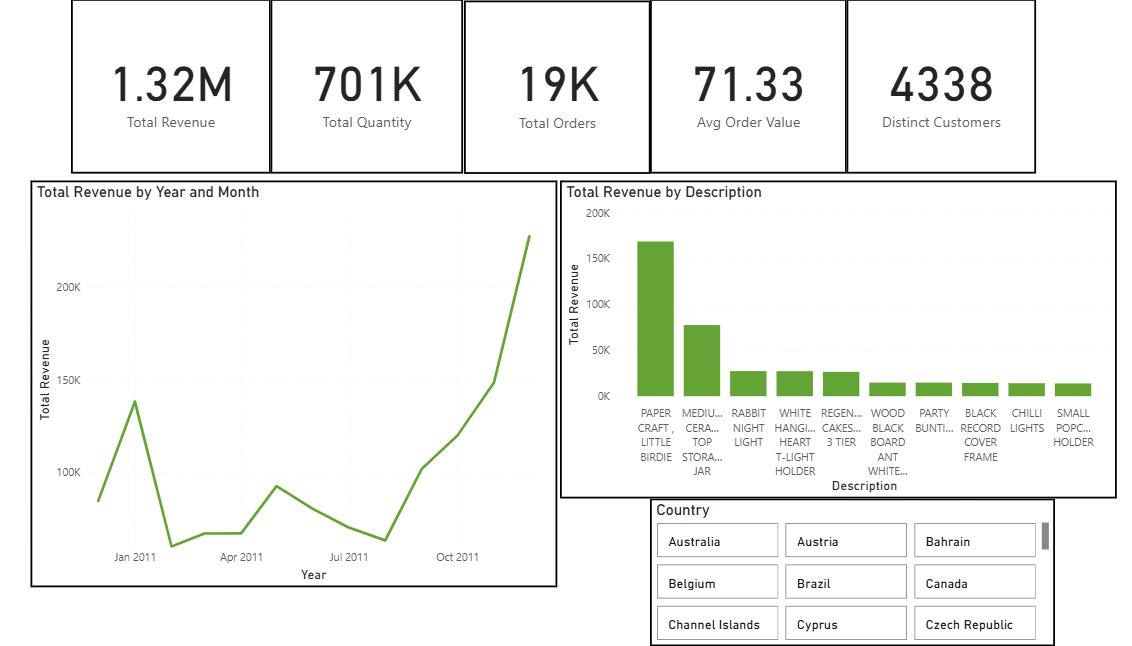

This screenshot's page, from the dashboard's own definition file:
{"tool":"powerbi","page":{"name":"Business Intelligence Report – Sales & Revenue","canvas":[1280,720],"ordinal":0},"visuals":[{"type":"card","fields":{"Values":["FactSales.Total Revenue"]},"box":[97.2,0,221.8,194.3],"z":0},{"type":"card","fields":{"Values":["FactSales.Total Quantity"]},"box":[319,0,213.7,194.3],"z":1000},{"type":"card","fields":{"Values":["FactSales.Total Orders"]},"box":[532.7,1.6,207.3,192.7],"z":2000},{"type":"card","fields":{"Values":["FactSales.Avg Order Value"]},"box":[740,0,218.6,194.3],"z":3000},{"type":"card","fields":{"Values":["FactSales.Distinct Customers"]},"box":[958.6,0,210.5,194.3],"z":4000},{"type":"columnChart","fields":{"Category":["DimProduct.Description"],"Y":["FactSales.Total Revenue"]},"box":[640,201.7,618.3,353.3],"z":5000},{"type":"lineChart","fields":{"Category":["DimDate.Date.Variation.Date Hierarchy.Year","DimDate.Date.Variation.Date Hierarchy.Month"],"Y":["FactSales.Total Revenue"]},"box":[97.2,202.4,532.7,398.3],"z":6000},{"type":"advancedSlicerVisual","fields":{"Values":["DimCustomer.Country"]},"box":[740,555.4,450.1,165.2],"z":7000}]}

Visuals, with their boxes in screenshot pixels (x1, y1, x2, y2), scaled from the page's 1280x720 canvas onto the 1132x646 screenshot:
card - FactSales.Total Revenue: pyautogui.locateOnScreen(86, 0, 282, 174)
card - FactSales.Total Quantity: pyautogui.locateOnScreen(282, 0, 471, 174)
card - FactSales.Total Orders: pyautogui.locateOnScreen(471, 1, 654, 174)
card - FactSales.Avg Order Value: pyautogui.locateOnScreen(654, 0, 848, 174)
card - FactSales.Distinct Customers: pyautogui.locateOnScreen(848, 0, 1034, 174)
columnChart - DimProduct.Description x FactSales.Total Revenue: pyautogui.locateOnScreen(566, 181, 1113, 498)
lineChart - DimDate.Date.Variation.Date Hierarchy.Year x DimDate.Date.Variation.Date Hierarchy.Month: pyautogui.locateOnScreen(86, 182, 557, 539)
advancedSlicerVisual - DimCustomer.Country: pyautogui.locateOnScreen(654, 498, 1052, 645)
